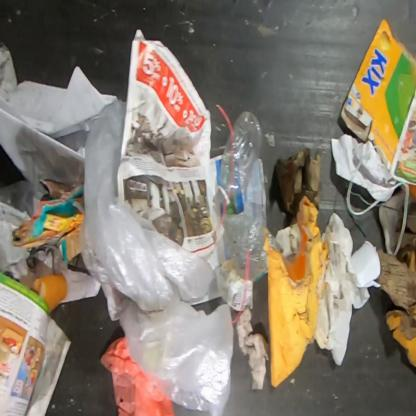cardboard: (263, 195, 330, 388), (340, 15, 415, 176), (13, 175, 83, 265), (376, 188, 415, 310), (275, 147, 323, 216), (383, 301, 415, 368)
rigid_plastic: (212, 110, 264, 210), (222, 213, 268, 282)
soft_plastic: (81, 97, 237, 415)
